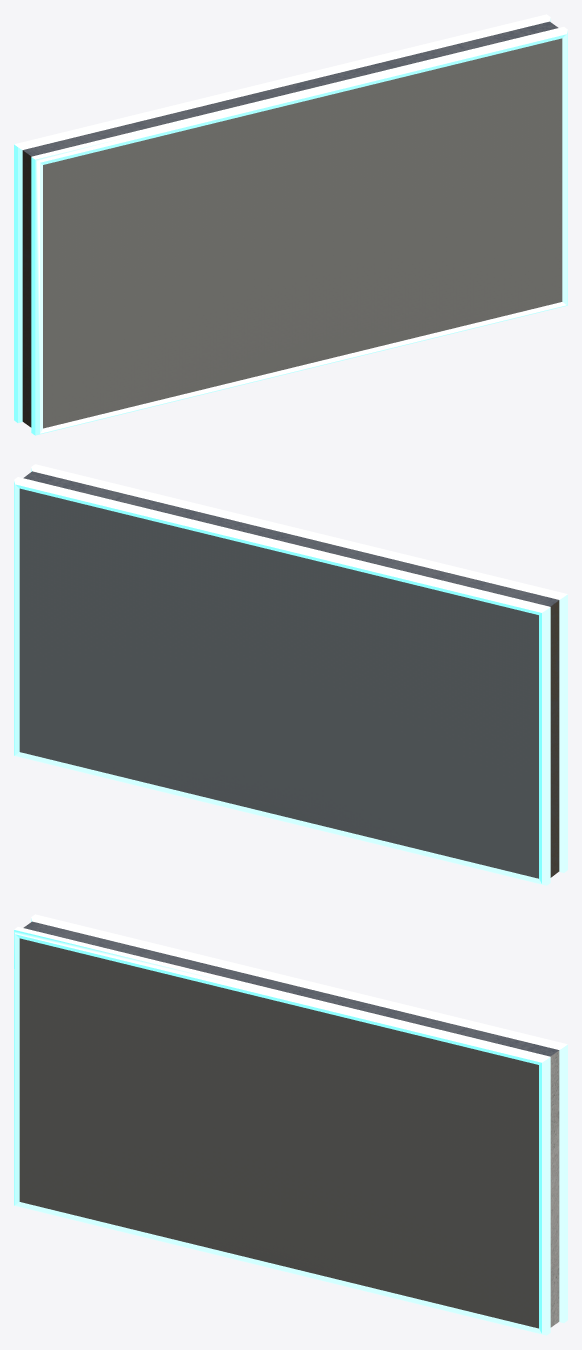
The model's file is frame.glb.
3 renders of one model, top to bottom at view 1: azimuth 30°, elevation 25°; view 2: azimuth 150°, elevation 25°; view 3: azimuth 330°, elevation 25°, orthographic.
Visible parts, largest first — view 1: sign_Screen.001; view 2: sign_Screen.001; view 3: sign_Screen.001.
Part boxes in pixels (bbox=[...]): sign_Screen.001: bbox=[14, 14, 567, 435]; sign_Screen.001: bbox=[14, 464, 567, 885]; sign_Screen.001: bbox=[14, 914, 567, 1335].
Size of the model in its own units: 4 by 1.98 by 0.3241.
Materials: 2 (1 with a texture image).
